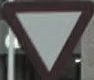Give way: (4, 1, 85, 75)
